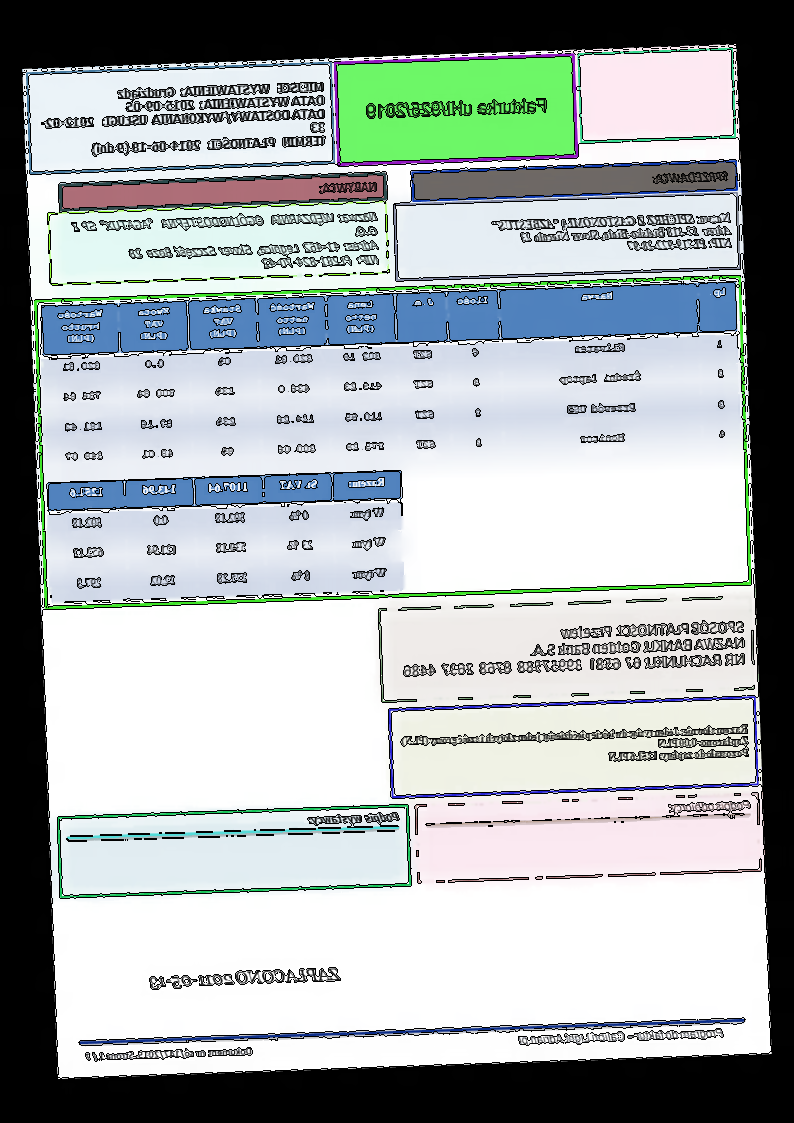Table: (40, 279, 744, 480), (46, 469, 406, 606)
TextBox: (36, 78, 329, 159), (400, 617, 748, 682), (68, 208, 382, 279), (399, 721, 751, 771), (489, 209, 734, 259), (148, 963, 343, 994), (516, 1023, 725, 1049), (363, 95, 550, 123), (84, 1043, 254, 1065), (307, 808, 402, 830), (667, 796, 753, 816), (649, 167, 732, 187), (318, 178, 380, 197)
